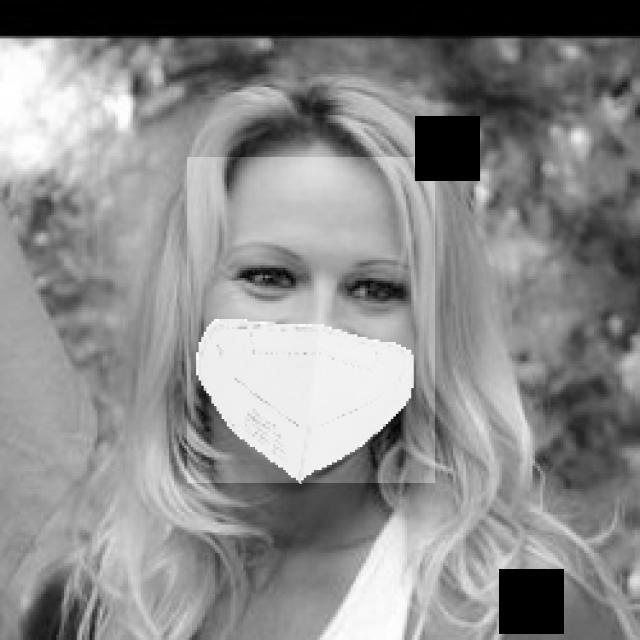kn95: (188, 158, 436, 484)
